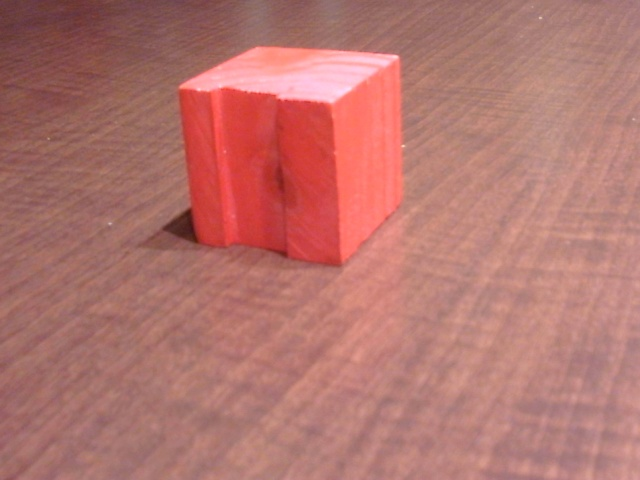RedBlock: (182, 88, 357, 259)
